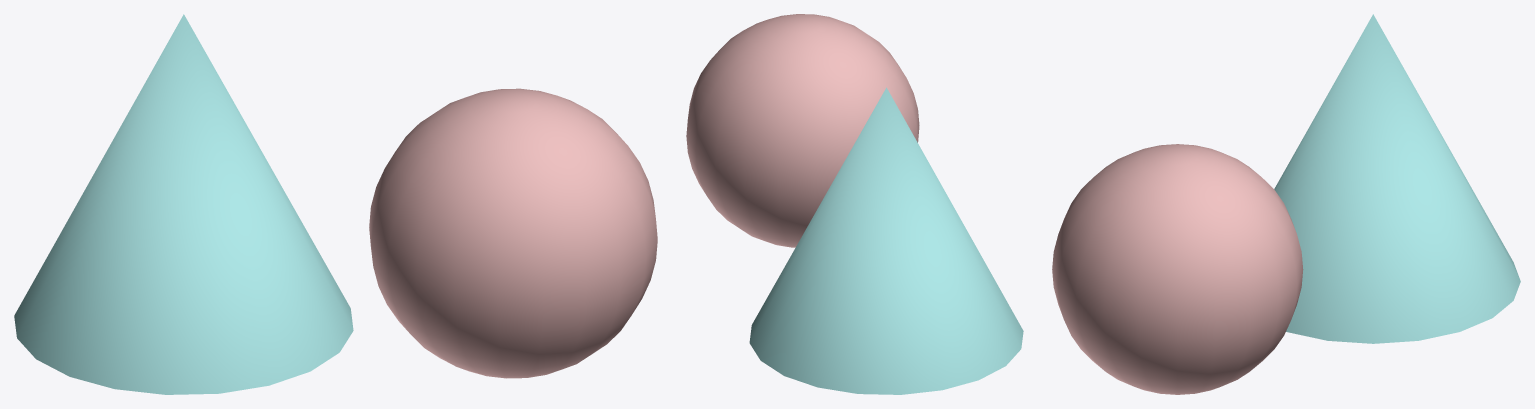
File: mattest.glb
3 renders of one model, left to right at view 1: azimuth 30°, elevation 25°; view 2: azimuth 150°, elevation 25°; view 3: azimuth 270°, elevation 25°, orthographic. The views are drawn at different scales.
Parts seen in each view (by area): view 1: pCone1, pSphere1; view 2: pCone1, pSphere1; view 3: pSphere1, pCone1.
Part boxes in pixels (left/top/right/bottom): pCone1: left=14, top=14, right=353, bottom=394; pSphere1: left=369, top=88, right=657, bottom=378; pCone1: left=749, top=87, right=1023, bottom=394; pSphere1: left=686, top=14, right=919, bottom=247; pSphere1: left=1052, top=144, right=1303, bottom=394; pCone1: left=1274, top=14, right=1520, bottom=343.
Bounding box in the file's own units: 0.0981 × 0.0615 × 0.094.
